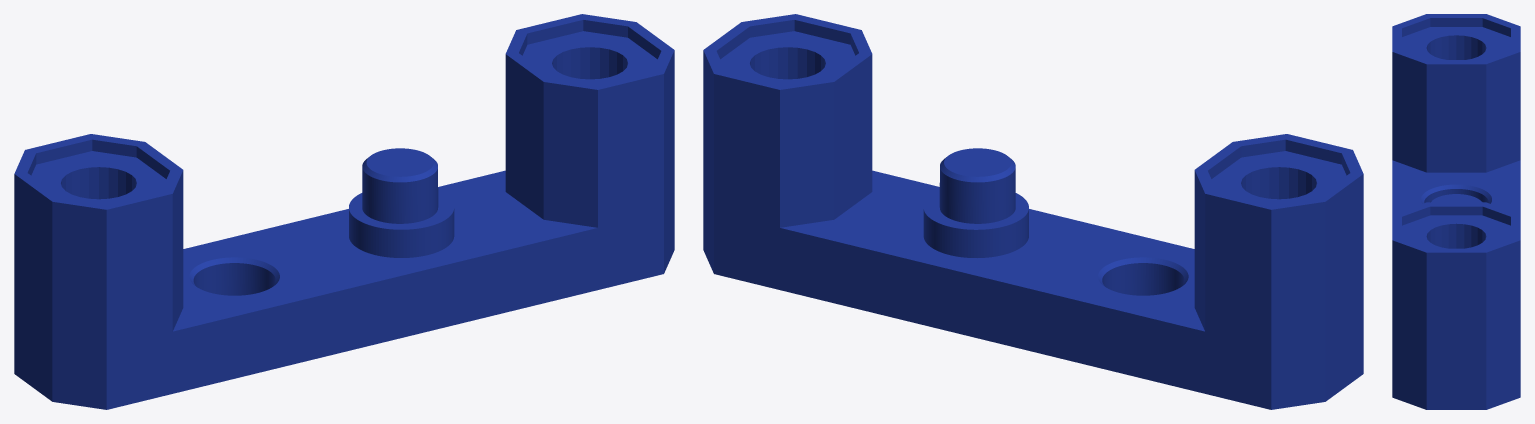
The model's file is gearBoxBottom_blue.dae.
3 views of the same model, side by side, from view 1: azimuth 30°, elevation 25°; view 2: azimuth 150°, elevation 25°; view 3: azimuth 270°, elevation 25° (orthographic). The views are drawn at different scales.
Visible parts, largest first — view 1: _c6440b3c4db44196f115354; view 2: _c6440b3c4db44196f115354; view 3: _c6440b3c4db44196f115354.
Boxes of the visible parts, left/top/right/bottom form: _c6440b3c4db44196f115354: left=14, top=14, right=674, bottom=409; _c6440b3c4db44196f115354: left=703, top=14, right=1363, bottom=409; _c6440b3c4db44196f115354: left=1392, top=14, right=1520, bottom=409.
Bounding box in the file's own units: 0.1704 × 0.0388 × 0.0524.
